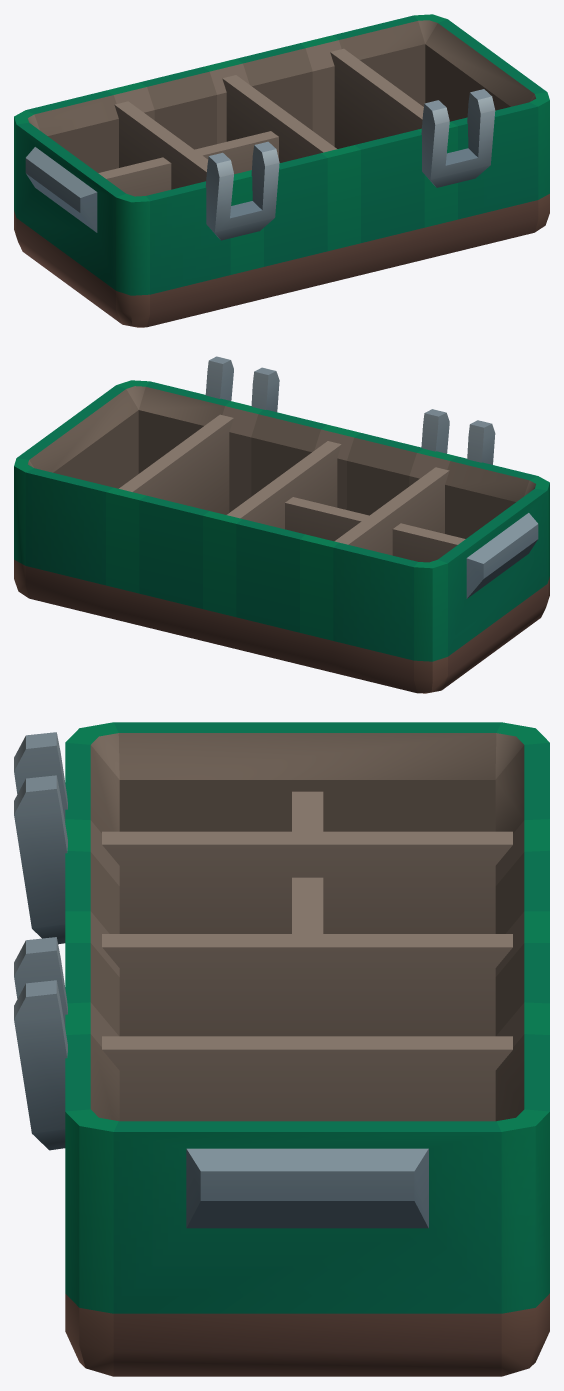
File: fishing_tacklebox_empty.obj
The picture shows the model from 3 angles, top to bottom: view 1: azimuth 30°, elevation 25°; view 2: azimuth 150°, elevation 25°; view 3: azimuth 270°, elevation 25°; orthographic projection. The views are drawn at different scales.
Parts seen in each view (by area): view 1: fishing_tacklebox_empty; view 2: fishing_tacklebox_empty; view 3: fishing_tacklebox_empty.
Boxes of the visible parts, x1,y1,x2,y2 form: fishing_tacklebox_empty: (14, 14, 549, 327); fishing_tacklebox_empty: (14, 356, 549, 693); fishing_tacklebox_empty: (14, 722, 549, 1376).
Bounding box in the file's own units: 0.9595 × 0.3371 × 0.4996.
1 material, 1 textured.
